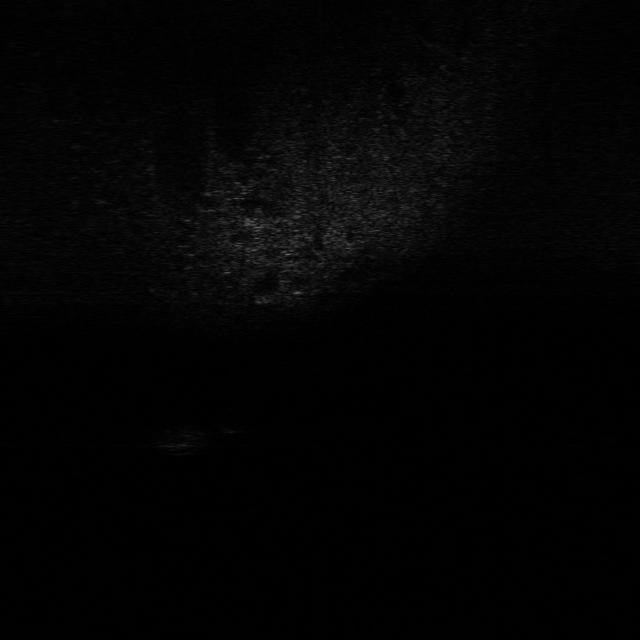ball: (216, 402, 256, 436)
circle cage: (150, 420, 214, 457)
